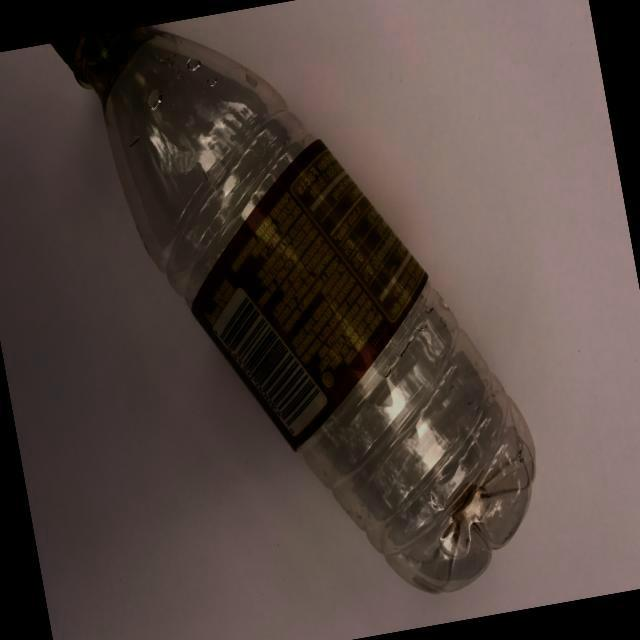plastic: (43, 0, 562, 640)
